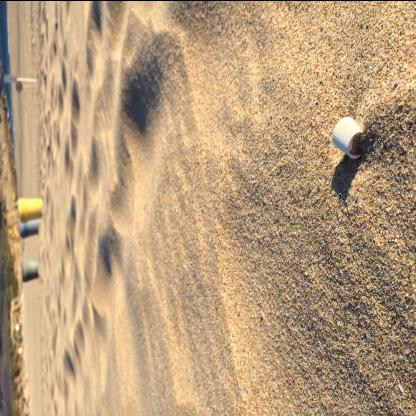plastik: (332, 116, 366, 158)
